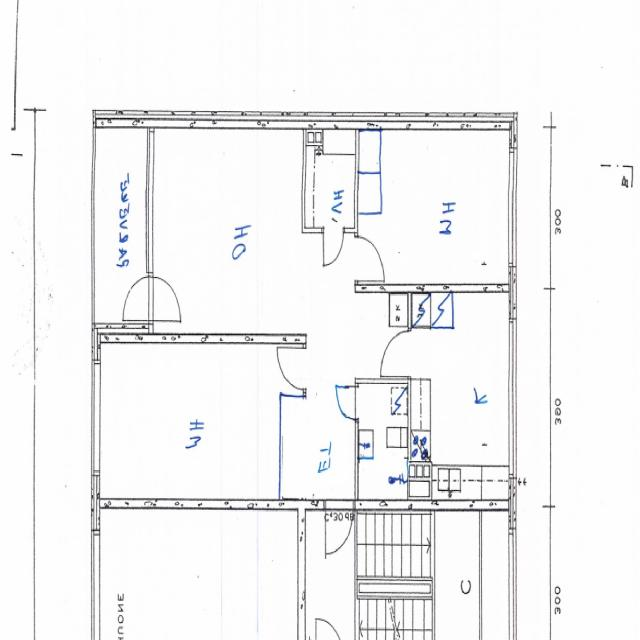door: (142, 277, 180, 321), (115, 277, 153, 321), (326, 499, 354, 556), (380, 332, 411, 377), (354, 237, 384, 280), (279, 349, 306, 388), (334, 387, 359, 420), (324, 228, 344, 266)
